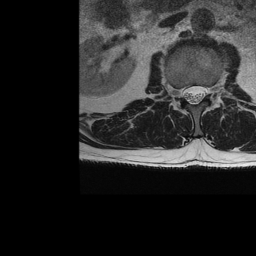CCS_normal: (191, 79, 199, 110)
LFS_normal: (208, 79, 216, 100)
LLS_normal: (199, 78, 207, 105)
RFS_normal: (174, 80, 182, 103)
RLS_normal: (182, 79, 191, 105)
